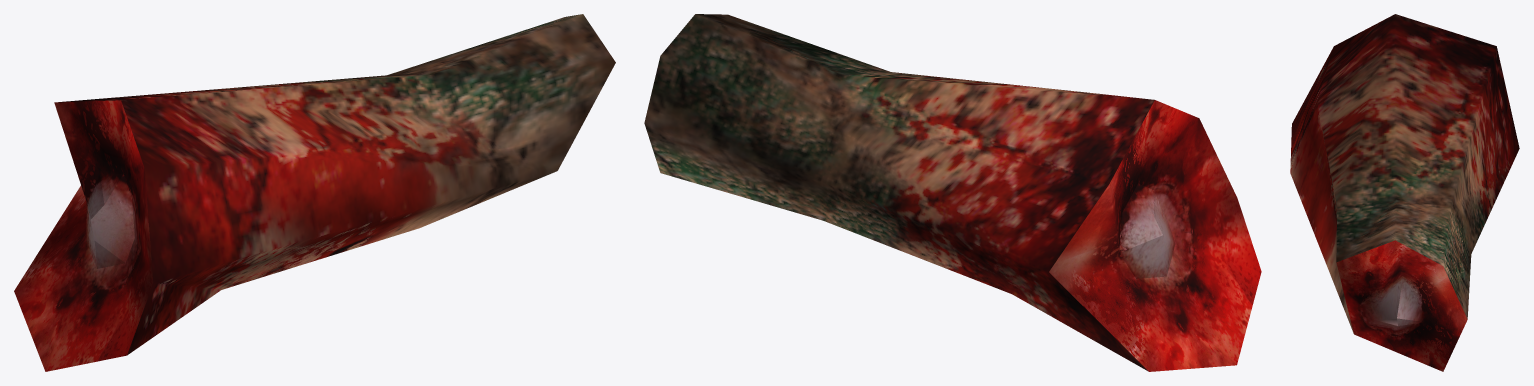
The model's file is lt_uparm.fbx.
3 renders of one model, left to right at view 1: azimuth 30°, elevation 25°; view 2: azimuth 150°, elevation 25°; view 3: azimuth 270°, elevation 25°, orthographic. The views are drawn at different scales.
Parts seen in each view (by area): view 1: lt_uparm_gib; view 2: lt_uparm_gib; view 3: lt_uparm_gib.
Part boxes in pixels (left/top/right/bottom): lt_uparm_gib: left=14, top=14, right=615, bottom=371; lt_uparm_gib: left=644, top=14, right=1261, bottom=371; lt_uparm_gib: left=1290, top=14, right=1519, bottom=371.
Bounding box in the file's own units: 0.4058 × 0.1756 × 0.1625.
